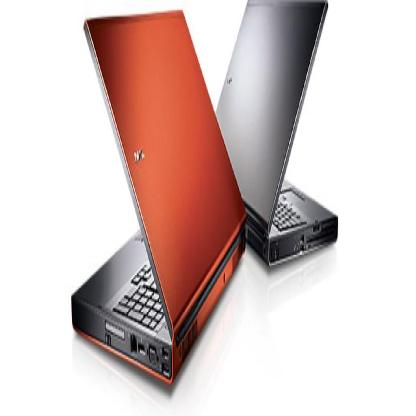board: (64, 2, 252, 394), (215, 2, 337, 263)
